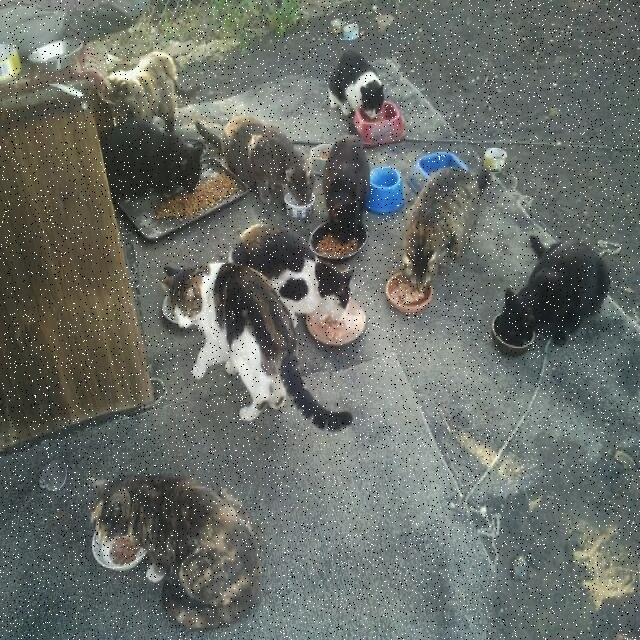cat: (161, 263, 351, 429), (89, 475, 258, 629), (496, 235, 609, 345), (231, 223, 352, 322), (401, 170, 491, 291), (195, 117, 314, 205), (101, 120, 202, 199), (109, 52, 178, 132), (322, 135, 370, 242), (330, 53, 384, 118)
